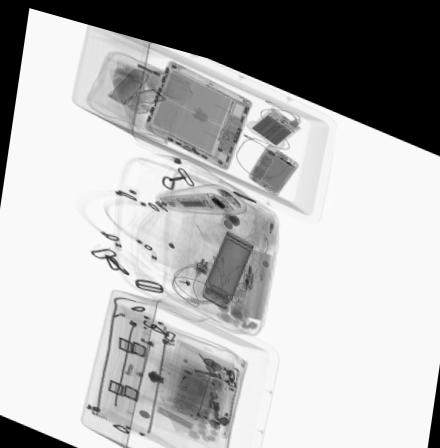Lighter: (174, 356, 192, 383)
